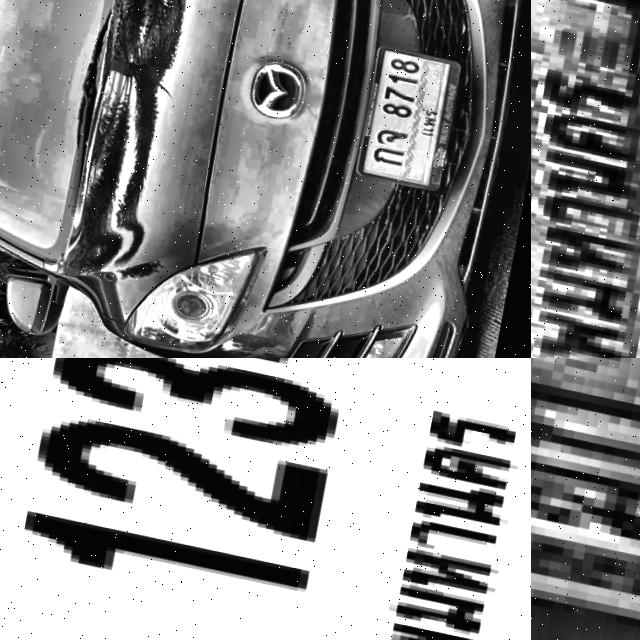license-plate: (0, 358, 531, 640), (531, 0, 640, 358), (531, 358, 640, 640), (352, 37, 465, 190)
